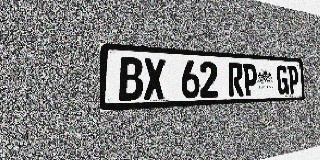2: (200, 61, 217, 98)
6: (181, 60, 200, 98)
B: (119, 57, 143, 101)
G: (276, 65, 288, 95)
P: (243, 63, 257, 96), (288, 66, 299, 94)
R: (228, 62, 243, 97)
X: (143, 58, 166, 100)
